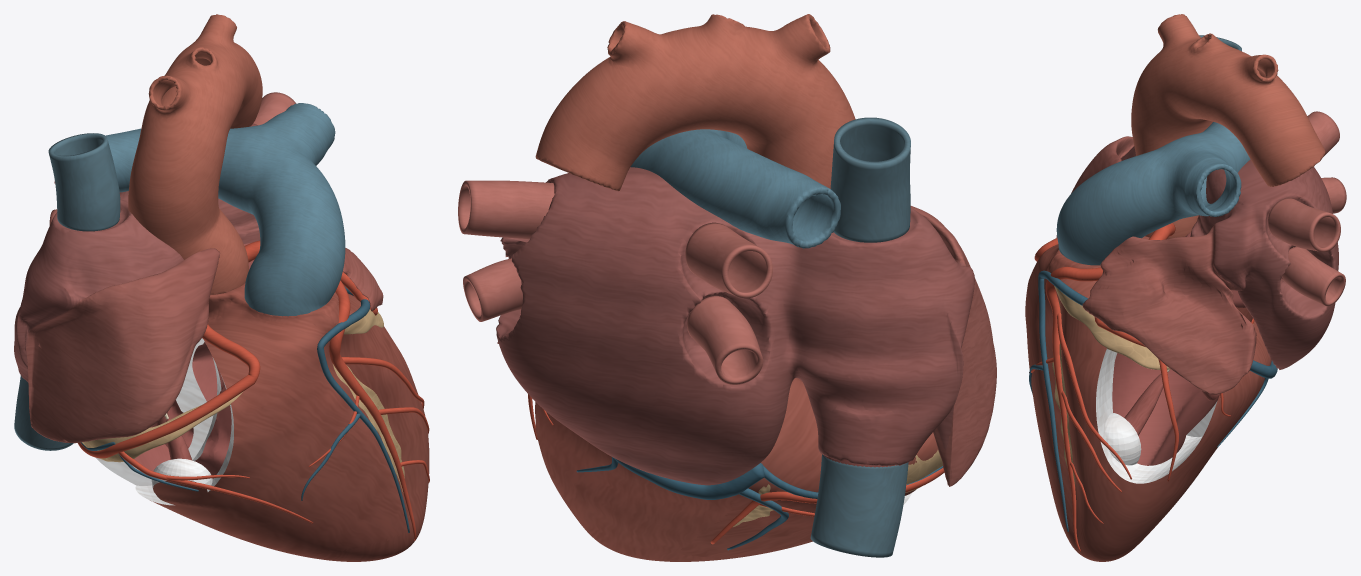
The model's file is open-wall.glb.
3 views of the same model, side by side, from view 1: azimuth 30°, elevation 25°; view 2: azimuth 150°, elevation 25°; view 3: azimuth 270°, elevation 25° (orthographic). The views are drawn at different scales.
Parts seen in each view (by area): view 1: RV_wall_open, Atrial_Myocardium, Aorta, Pulmonary_tree, LV_wall_open, SVC, A09_Right_AV_to_posterior, A01_Anterior_interventricular, V01_Great_cardiac, F03_Right_coronary_groove, IVC, F01_Anterior_groove (+4 smaller); view 2: Atrial_Myocardium, Aorta, Pulmonary_tree, LV_wall_open, RV_wall_open, SVC, IVC, LSPV, RSPV, RIPV, LIPV, V03_Coronary_sinus (+3 smaller); view 3: Atrial_Myocardium, LV_wall_open, Aorta, Pulmonary_tree, RV_wall_open, LSPV, LIPV, A01_Anterior_interventricular, V01_Great_cardiac, F02_Left_coronary_groove, Papillary_LV_Anterolateral, A02_First_diagonal (+5 smaller).
Boxes of the visible parts, box(x1,y1,x2,y2) form: RV_wall_open: box(96, 283, 412, 553); Atrial_Myocardium: box(14, 123, 383, 443); Aorta: box(128, 14, 262, 294); Pulmonary_tree: box(106, 103, 345, 316); LV_wall_open: box(192, 292, 429, 561); SVC: box(48, 133, 120, 231); A09_Right_AV_to_posterior: box(78, 324, 260, 458); A01_Anterior_interventricular: box(329, 280, 416, 540); V01_Great_cardiac: box(317, 286, 409, 532); F03_Right_coronary_groove: box(82, 391, 243, 462); IVC: box(14, 375, 73, 450); F01_Anterior_groove: box(333, 364, 404, 492); Atrial_Myocardium: box(496, 167, 996, 486); Aorta: box(535, 14, 855, 191); Pulmonary_tree: box(630, 129, 840, 248); LV_wall_open: box(535, 402, 744, 561); RV_wall_open: box(674, 378, 937, 557); SVC: box(830, 117, 910, 242); IVC: box(810, 454, 908, 557); LSPV: box(458, 180, 554, 239); RSPV: box(685, 222, 772, 298); RIPV: box(687, 296, 763, 384); LIPV: box(463, 258, 522, 321); V03_Coronary_sinus: box(612, 457, 765, 499); Atrial_Myocardium: box(1056, 136, 1338, 394); LV_wall_open: box(1050, 236, 1271, 561); Aorta: box(1131, 14, 1325, 238); Pulmonary_tree: box(1056, 122, 1250, 265); RV_wall_open: box(1025, 244, 1217, 531); LSPV: box(1268, 198, 1340, 251); LIPV: box(1281, 246, 1345, 306); A01_Anterior_interventricular: box(1045, 266, 1102, 551); V01_Great_cardiac: box(1038, 270, 1087, 531); F02_Left_coronary_groove: box(1054, 286, 1253, 369); Papillary_LV_Anterolateral: box(1124, 374, 1163, 435); A02_First_diagonal: box(1057, 312, 1131, 479).
Bounding box in the file's own units: 0.1005 × 0.1298 × 0.081.
Materials: 15 (15 with a texture image).
